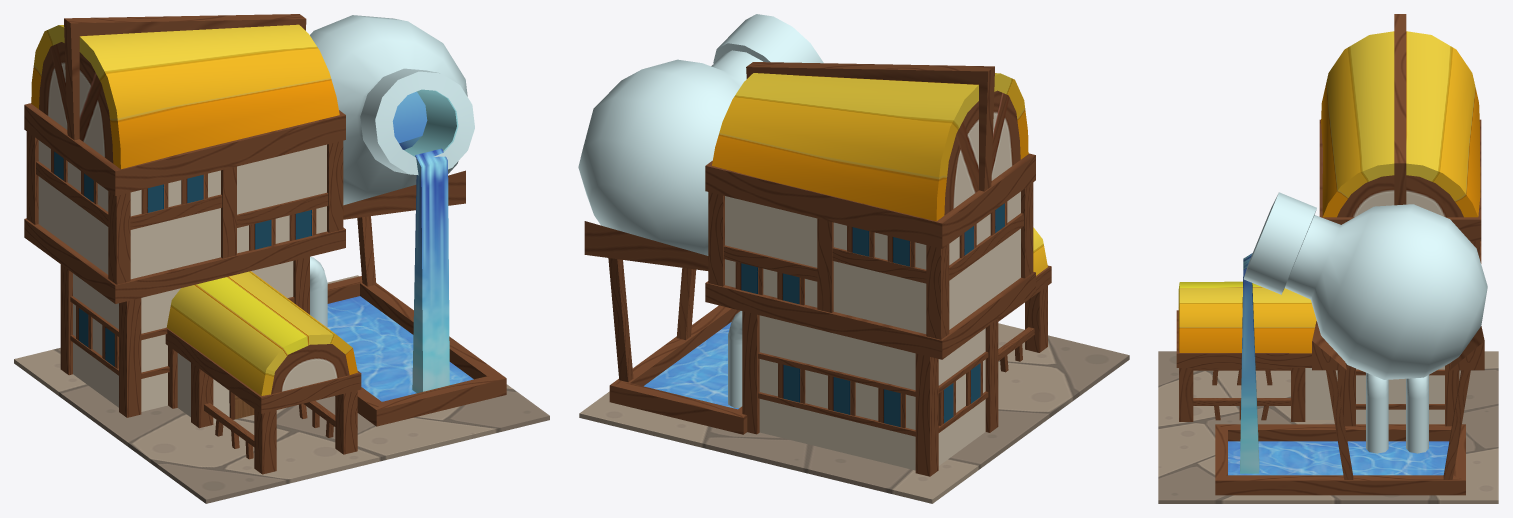
File: building_potion_lv5.FBX
The picture shows the model from 3 angles, left to right: view 1: azimuth 30°, elevation 25°; view 2: azimuth 150°, elevation 25°; view 3: azimuth 270°, elevation 25°; orthographic projection. The views are drawn at different scales.
Visible parts, largest first — view 1: building_potion_roof_lv5, building_potion_lv5, building_potion_ground_lv5, building_potion_bottleout_lv5, building_potion_water_lv5, building_potion_bottle_lv5, building_potion_bottlein_lv5, building_potion_pipeout_lv5; view 2: building_potion_roof_lv5, building_potion_lv5, building_potion_bottleout_lv5, building_potion_ground_lv5, building_potion_pipeout_lv5; view 3: building_potion_roof_lv5, building_potion_bottleout_lv5, building_potion_lv5, building_potion_ground_lv5, building_potion_pipeout_lv5, building_potion_water_lv5.
Part boxes in pixels (x1,y1,x2,y2): building_potion_roof_lv5: (31, 24, 357, 423); building_potion_lv5: (24, 14, 506, 474); building_potion_ground_lv5: (14, 275, 549, 503); building_potion_bottleout_lv5: (310, 15, 474, 205); building_potion_water_lv5: (412, 148, 449, 393); building_potion_bottle_lv5: (404, 89, 458, 156); building_potion_bottlein_lv5: (392, 91, 427, 149); building_potion_pipeout_lv5: (310, 256, 327, 327); building_potion_roof_lv5: (712, 73, 1047, 470); building_potion_lv5: (584, 62, 1051, 476); building_potion_bottleout_lv5: (578, 14, 823, 255); building_potion_ground_lv5: (579, 323, 1129, 503); building_potion_pipeout_lv5: (728, 311, 742, 408); building_potion_roof_lv5: (1178, 31, 1480, 424); building_potion_bottleout_lv5: (1243, 192, 1487, 379); building_potion_lv5: (1176, 14, 1484, 495); building_potion_ground_lv5: (1158, 351, 1498, 503); building_potion_pipeout_lv5: (1366, 372, 1428, 453); building_potion_water_lv5: (1240, 253, 1259, 473).
Size of the model in its own units: 660 by 622 by 564.
